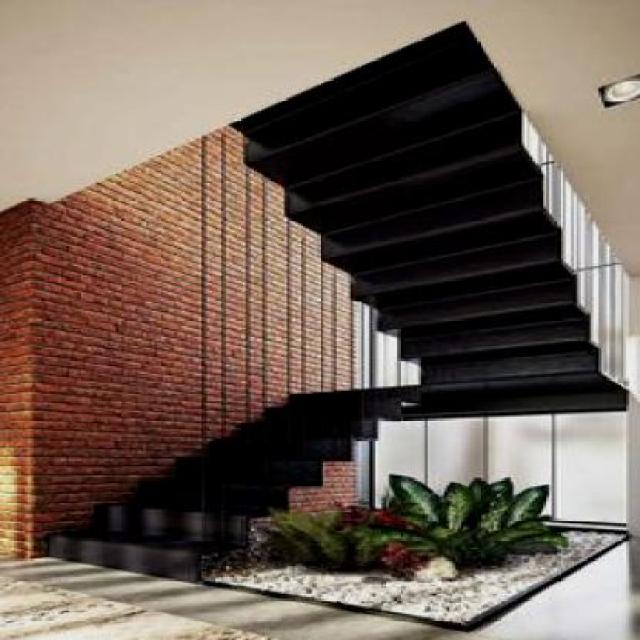stair: (23, 334, 423, 580)
